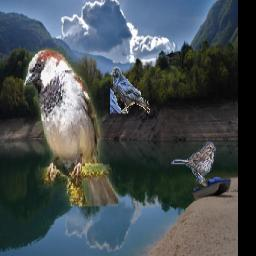Crow: (110, 66, 150, 113)
Sparrow: (24, 49, 119, 207), (172, 140, 217, 184)
